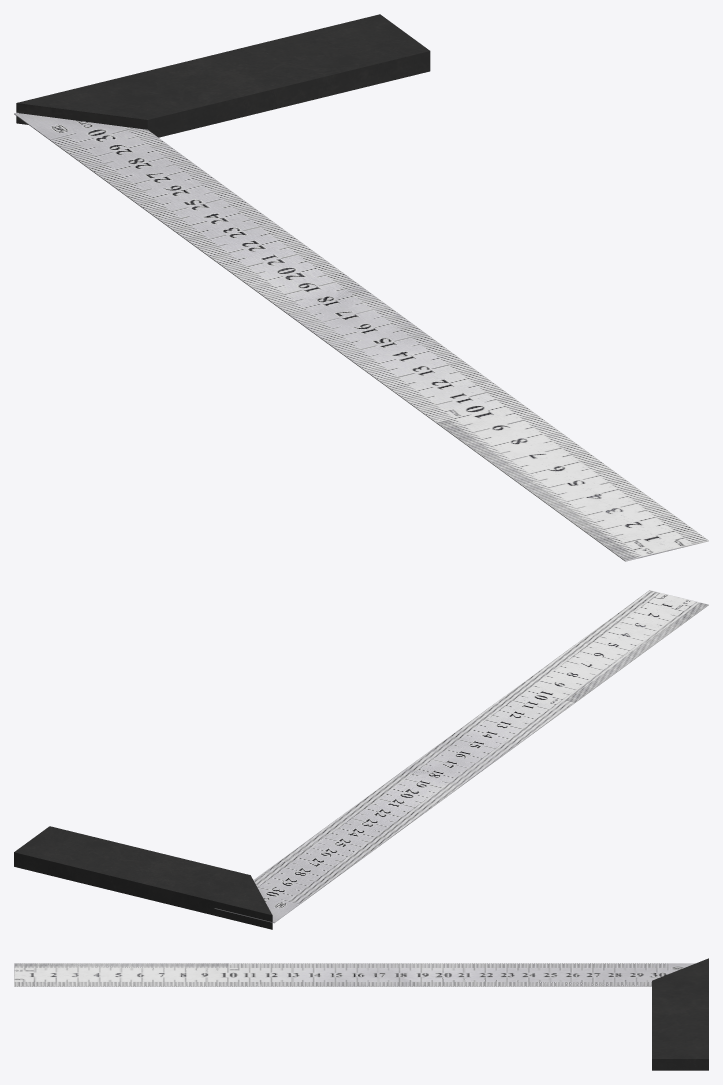
The model's file is chizi.fbx.
The picture shows the model from 3 angles, top to bottom: view 1: azimuth 30°, elevation 25°; view 2: azimuth 150°, elevation 25°; view 3: azimuth 270°, elevation 25°; orthographic projection. The views are drawn at different scales.
Visible parts, largest first — view 1: chizi_; view 2: chizi_; view 3: chizi_.
Part boxes in pixels (box(x1,y1,x2,y2)): chizi_: box(14, 14, 708, 561); chizi_: box(14, 590, 708, 929); chizi_: box(14, 958, 708, 1070).
Bounding box in the file's own units: 74.51 × 3.97 × 215.
